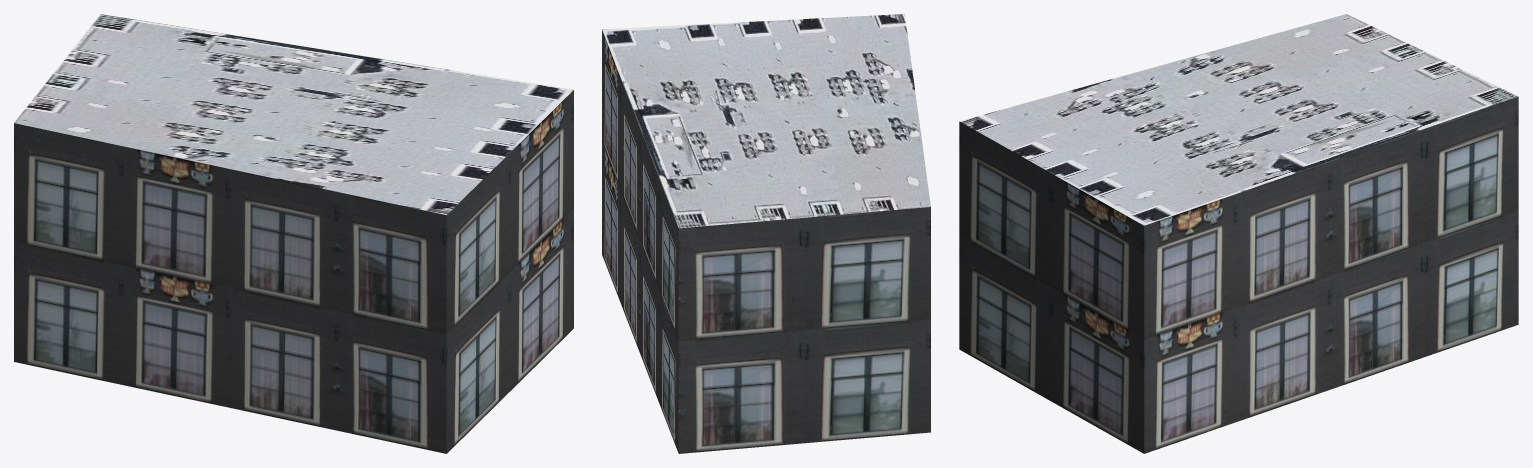
The model's file is ResTex__3494.fbx.
The picture shows the model from 3 angles, left to right: view 1: azimuth 30°, elevation 25°; view 2: azimuth 150°, elevation 25°; view 3: azimuth 270°, elevation 25°; orthographic projection. The views are drawn at different scales.
Parts seen in each view (by area): view 1: CityEngineMaterial_22_m, CityEngineMaterial_4_m; view 2: CityEngineMaterial_22_m, CityEngineMaterial_4_m; view 3: CityEngineMaterial_22_m, CityEngineMaterial_4_m.
Part boxes in pixels (x1,y1,x2,y2): CityEngineMaterial_22_m: [14, 90, 573, 453]; CityEngineMaterial_4_m: [14, 14, 573, 214]; CityEngineMaterial_22_m: [602, 30, 930, 453]; CityEngineMaterial_4_m: [602, 14, 930, 228]; CityEngineMaterial_22_m: [959, 96, 1518, 453]; CityEngineMaterial_4_m: [960, 14, 1517, 225].
Bounding box in the file's own units: 11.94 × 6 × 13.33.
2 materials, 2 textured.
